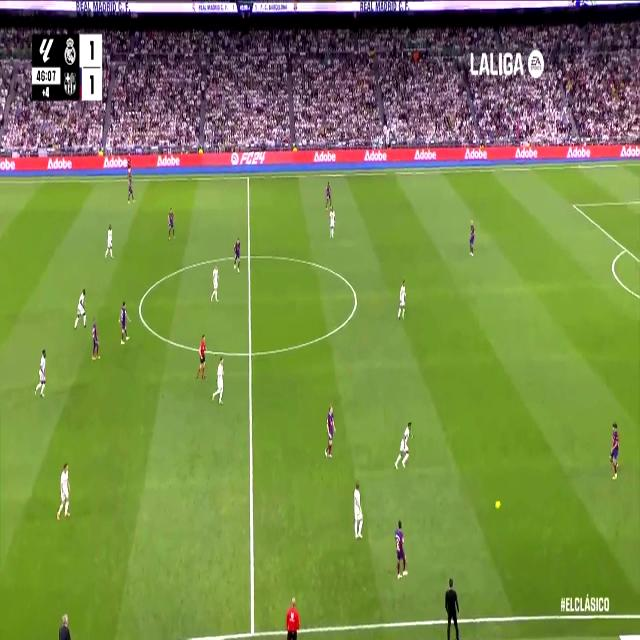bigarea_top_inner: (570, 198, 577, 212)
halfcircle_bottom: (245, 340, 256, 366)
halfcircle_top: (244, 246, 253, 265)
midline_bottom_intersection: (245, 617, 260, 639)
midline_top_intersection: (245, 170, 251, 185)
top_arc_area_intersection: (622, 241, 629, 256)
